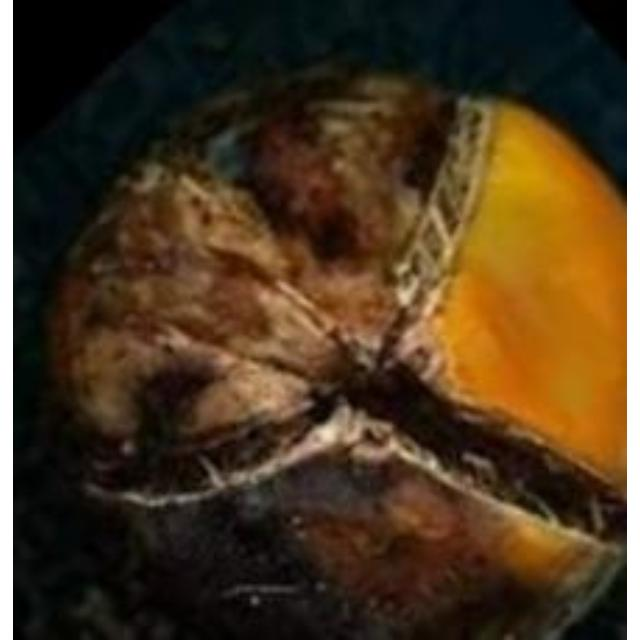damaged: (47, 67, 625, 637)
